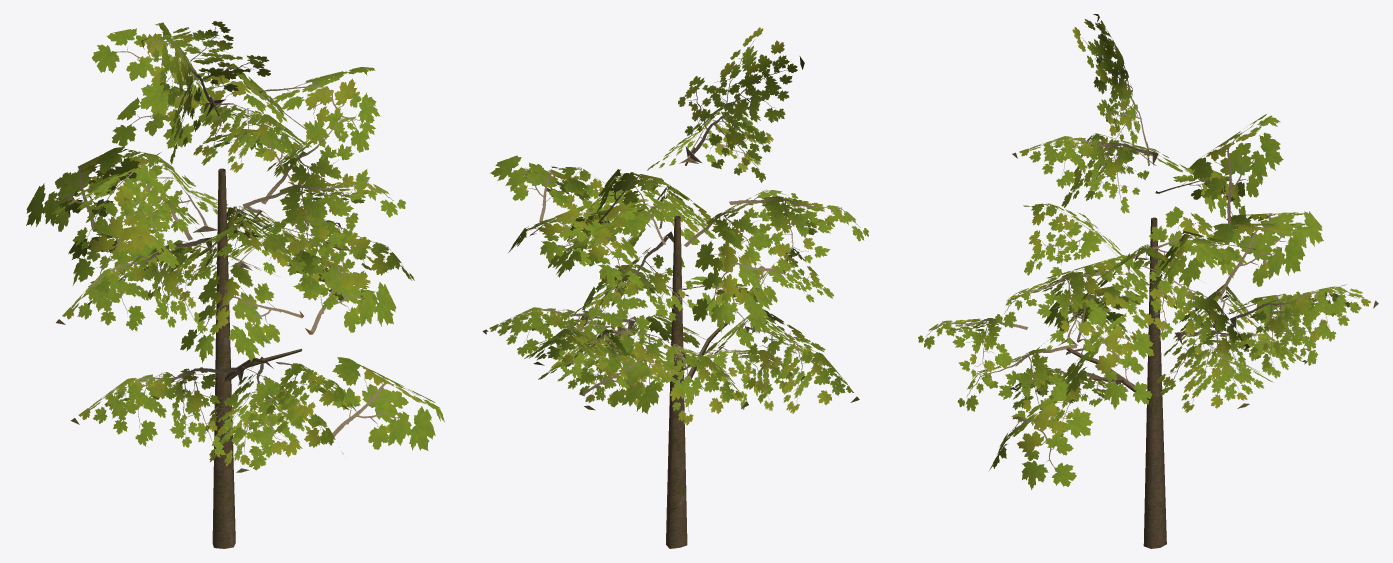
File: SM_Tree_Small_01.fbx
The picture shows the model from 3 angles, left to right: view 1: azimuth 30°, elevation 25°; view 2: azimuth 150°, elevation 25°; view 3: azimuth 270°, elevation 25°; orthographic projection. The views are drawn at different scales.
Visible parts, largest first — view 1: SM_Tree_Small_01_LOD0; view 2: SM_Tree_Small_01_LOD0; view 3: SM_Tree_Small_01_LOD0.
Part boxes in pixels (x1,y1,x2,y2): SM_Tree_Small_01_LOD0: [26, 21, 444, 548]; SM_Tree_Small_01_LOD0: [482, 27, 868, 548]; SM_Tree_Small_01_LOD0: [918, 14, 1378, 548].
Size of what is drawn, in the model's own units: 4.12 by 6 by 5.06.
